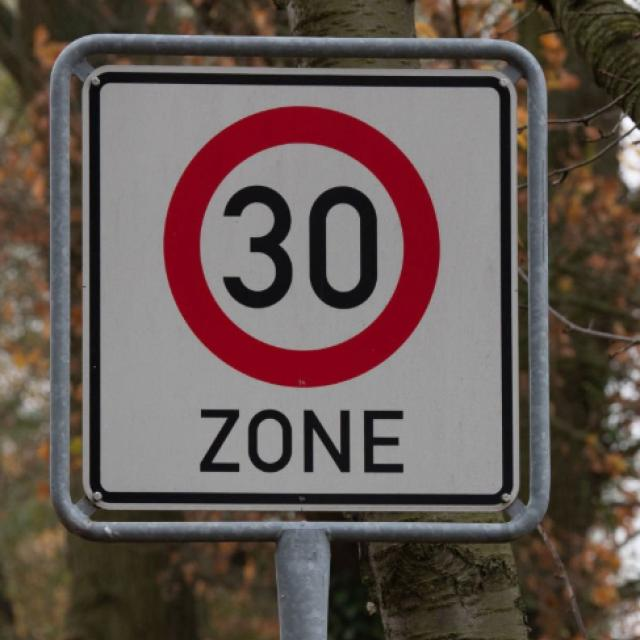Speed limit 30: (162, 103, 443, 389)
